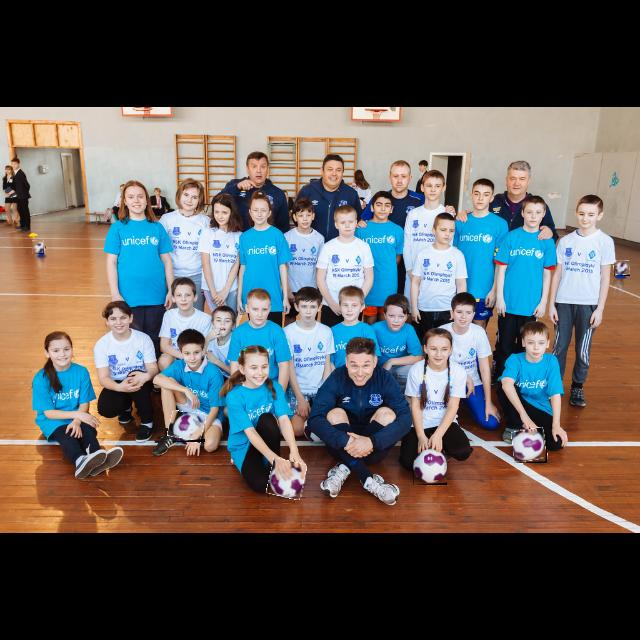Football: (268, 460, 306, 498), (413, 449, 447, 485), (513, 429, 547, 463), (169, 412, 205, 442), (614, 260, 630, 276), (32, 240, 44, 254)
